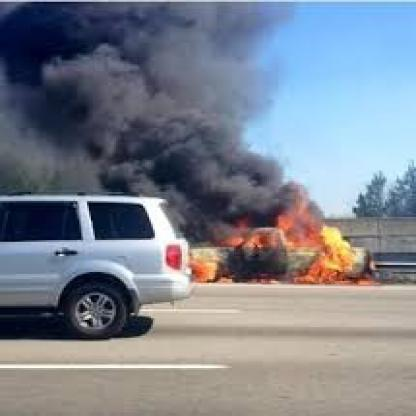fire: (190, 188, 374, 288)
